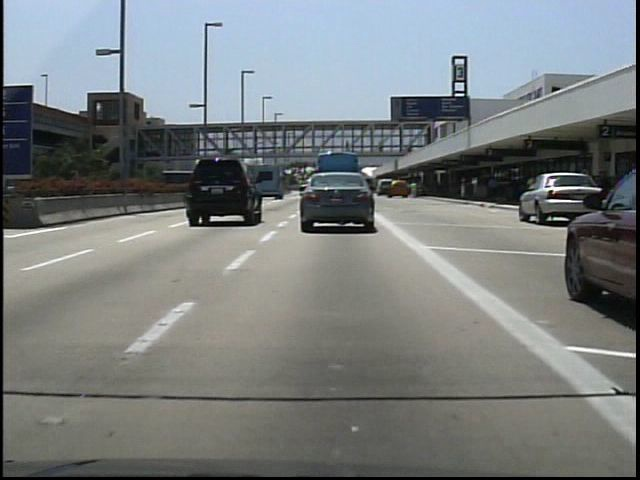person: (406, 177, 421, 204), (376, 136, 389, 158), (341, 136, 354, 156), (524, 172, 537, 187)
